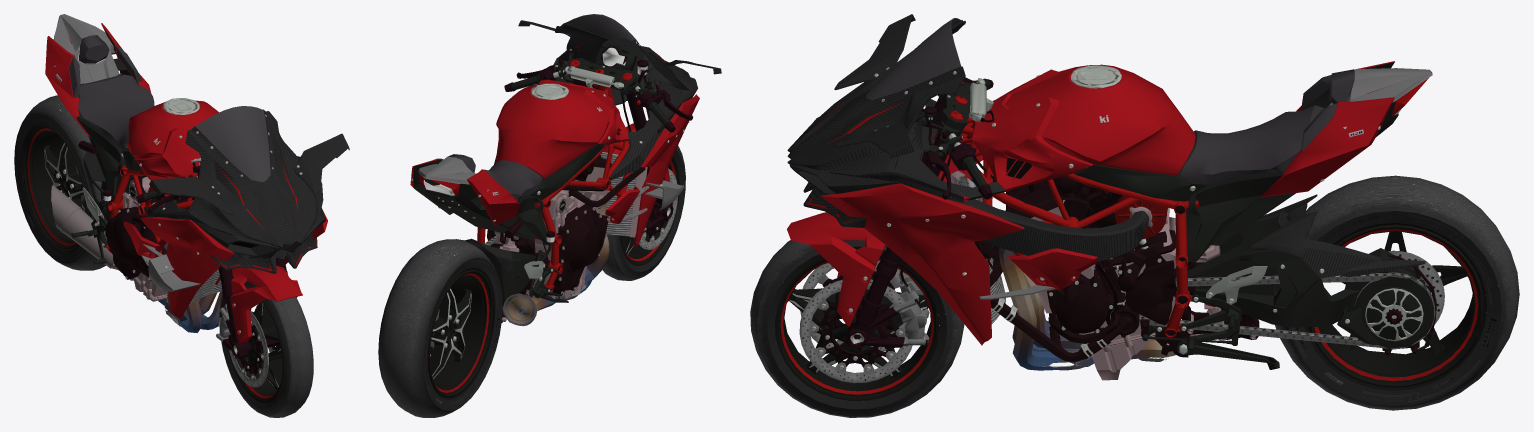
3 renders of one model, left to right at view 1: azimuth 30°, elevation 25°; view 2: azimuth 150°, elevation 25°; view 3: azimuth 270°, elevation 25°, orthographic. The views are drawn at different scales.
Visible parts, largest first — view 1: Kawasaki#3.005, G-__557418, G-__557256, Group#218.001, G-__557202.001, G-__557454.001, Group#266.002, G-__557445.001, G-__557022.002, Group#280.002; view 2: Kawasaki#3.005, G-__557256, G-__557418, Group#218.001, G-__557202.001, G-__557022.002, Group#266.002, G-__557454.001, Group#280.002; view 3: Kawasaki#3.005, G-__557256, G-__557418, Group#218.002, G-__557202.001, G-__557454.002, G-__556959, Group#266.001, G-__557445.002, G-__557247.001, G-__557454.001, Group#280.001.
Boxes of the visible parts, x1,y1,x2,y2 form: Kawasaki#3.005: (21, 14, 316, 403); G-__557418: (83, 109, 349, 273); G-__557256: (14, 95, 313, 417); Group#218.001: (140, 217, 234, 318); G-__557202.001: (158, 291, 222, 332); G-__557454.001: (229, 311, 268, 387); Group#266.002: (123, 221, 160, 258); G-__557445.001: (239, 324, 263, 375); G-__557022.002: (189, 269, 222, 304); Group#280.002: (218, 266, 233, 298); Kawasaki#3.005: (410, 14, 692, 399); G-__557256: (378, 145, 685, 417); G-__557418: (456, 20, 721, 279); Group#218.001: (633, 94, 699, 246); G-__557202.001: (507, 192, 609, 321); G-__557022.002: (600, 152, 636, 236); Group#266.002: (605, 186, 639, 223); G-__557454.001: (639, 168, 677, 249); Group#280.002: (626, 92, 649, 174); Kawasaki#3.005: (775, 18, 1486, 400); G-__557256: (750, 175, 1519, 417); G-__557418: (787, 14, 1425, 278); Group#218.002: (820, 183, 1024, 345); G-__557202.001: (998, 210, 1194, 370); G-__557454.002: (799, 279, 912, 383); G-__556959: (1139, 272, 1435, 348); Group#266.001: (1008, 248, 1097, 291); G-__557445.002: (816, 294, 898, 367); G-__557247.001: (1345, 250, 1444, 324); G-__557454.001: (800, 260, 903, 351); Group#280.001: (876, 133, 949, 279).
Bounding box in the file's own units: 0.8398 × 1.16 × 2.08.
12 materials, 11 textured.
